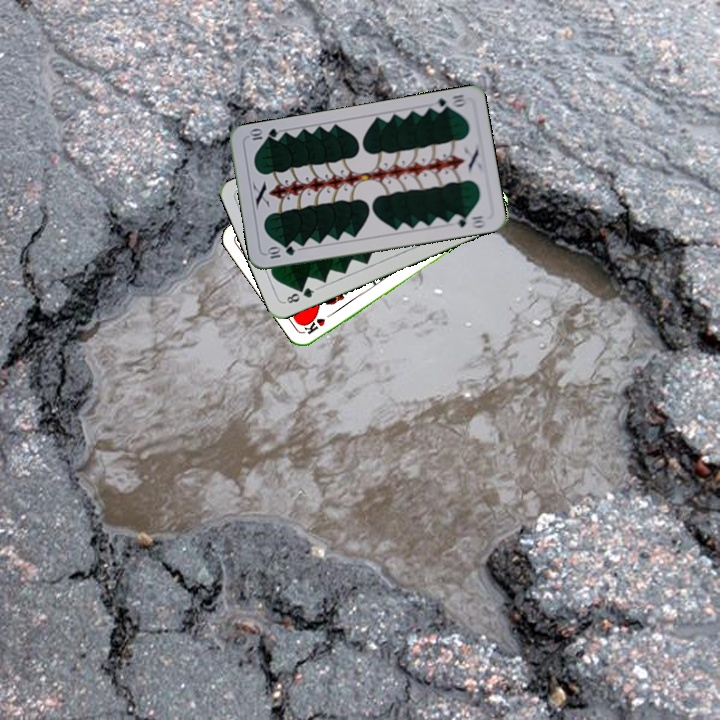G10: (430, 90, 470, 115), (263, 242, 297, 261)
G8: (281, 283, 320, 306)
HK: (301, 307, 338, 337)
